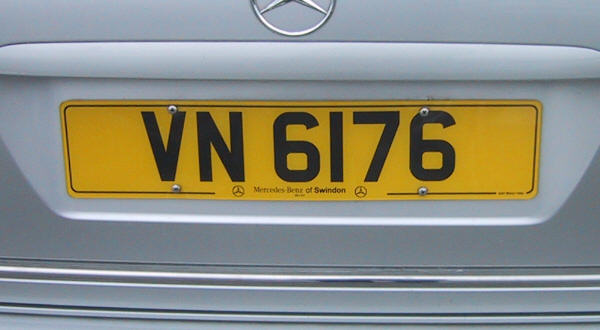license_plate: (59, 99, 542, 203)
